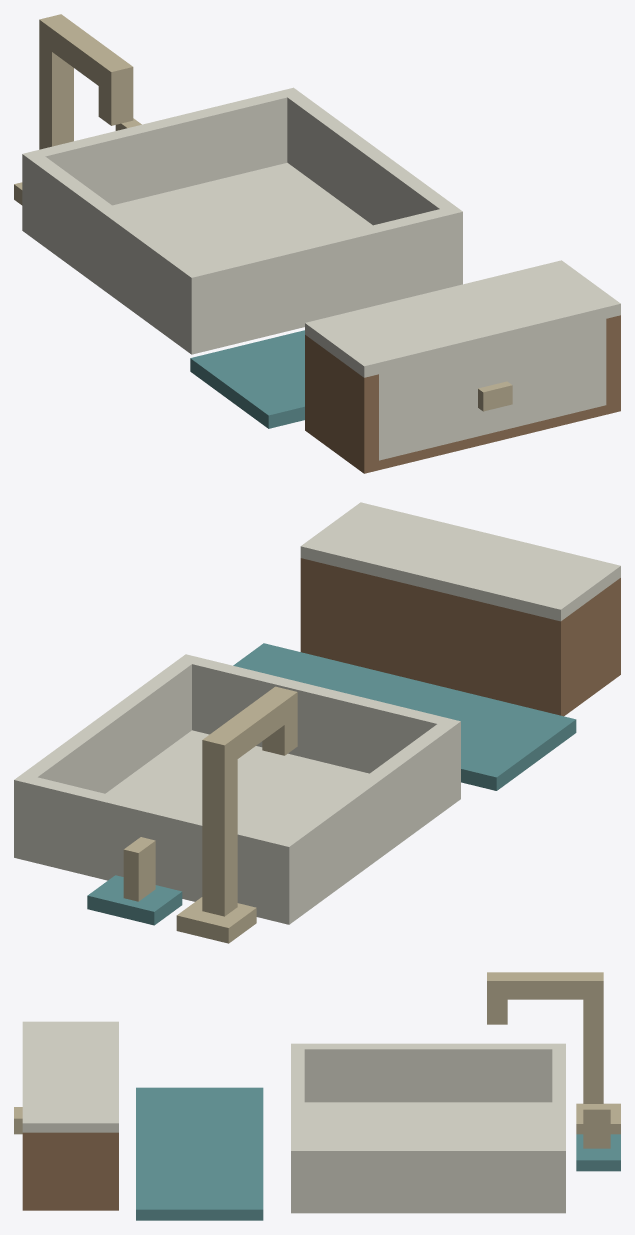
The model's file is CARE_starboard_central_upper_house_r001.glb.
3 views of the same model, one above another, from view 1: azimuth 30°, elevation 25°; view 2: azimuth 150°, elevation 25°; view 3: azimuth 270°, elevation 25° (orthographic). The views are drawn at different scales.
Visible parts, largest first — view 1: G2C_starboard_central_upper_house_WashBottom, G2C_starboard_central_upper_house_ClosedCleanFront, G2C_starboard_central_upper_house_CleanCaseLid, G2C_starboard_central_upper_house_WashFront, G2C_starboard_central_upper_house_WashRear, G2C_starboard_central_upper_house_WashSideA, G2C_starboard_central_upper_house_WashSideB, G2C_starboard_central_upper_house_PreparationTray, G2C_starboard_central_upper_house_CleanCaseLeft, G2C_starboard_central_upper_house_FaucetStem, G2C_starboard_central_upper_house_FaucetArm, G2C_starboard_central_upper_house_CleanCaseBottom (+4 smaller); view 2: G2C_starboard_central_upper_house_CleanCaseRear, G2C_starboard_central_upper_house_CleanCaseLid, G2C_starboard_central_upper_house_WashBottom, G2C_starboard_central_upper_house_WashSideA, G2C_starboard_central_upper_house_WashRear, G2C_starboard_central_upper_house_PreparationTray, G2C_starboard_central_upper_house_WashFront, G2C_starboard_central_upper_house_WashSideB, G2C_starboard_central_upper_house_FaucetStem, G2C_starboard_central_upper_house_CleanCaseLeft, G2C_starboard_central_upper_house_FaucetArm, G2C_starboard_central_upper_house_ValvePlate (+4 smaller); view 3: G2C_starboard_central_upper_house_PreparationTray, G2C_starboard_central_upper_house_WashSideB, G2C_starboard_central_upper_house_WashSideA, G2C_starboard_central_upper_house_WashBottom, G2C_starboard_central_upper_house_CleanCaseLid, G2C_starboard_central_upper_house_CleanCaseRight, G2C_starboard_central_upper_house_FaucetArm, G2C_starboard_central_upper_house_FaucetStem, G2C_starboard_central_upper_house_WashFront, G2C_starboard_central_upper_house_WashRear, G2C_starboard_central_upper_house_ValvePlate, G2C_starboard_central_upper_house_ValveLever (+4 smaller).
Part boxes in pixels (<box>): G2C_starboard_central_upper_house_WashBottom: <box>22,162,462,354</box>; G2C_starboard_central_upper_house_ClosedCleanFront: <box>379,319,606,460</box>; G2C_starboard_central_upper_house_CleanCaseLid: <box>305,260,620,377</box>; G2C_starboard_central_upper_house_WashFront: <box>198,209,448,339</box>; G2C_starboard_central_upper_house_WashRear: <box>37,91,287,205</box>; G2C_starboard_central_upper_house_WashSideA: <box>22,150,206,342</box>; G2C_starboard_central_upper_house_WashSideB: <box>279,87,462,280</box>; G2C_starboard_central_upper_house_PreparationTray: <box>190,330,304,428</box>; G2C_starboard_central_upper_house_CleanCaseLeft: <box>313,341,378,464</box>; G2C_starboard_central_upper_house_FaucetStem: <box>39,14,73,149</box>; G2C_starboard_central_upper_house_FaucetArm: <box>39,14,133,95</box>; G2C_starboard_central_upper_house_CleanCaseBottom: <box>305,401,620,473</box>; G2C_starboard_central_upper_house_CleanCaseRear: <box>300,558,569,708</box>; G2C_starboard_central_upper_house_CleanCaseLid: <box>300,502,620,621</box>; G2C_starboard_central_upper_house_WashBottom: <box>14,730,460,924</box>; G2C_starboard_central_upper_house_WashSideA: <box>274,717,460,912</box>; G2C_starboard_central_upper_house_WashRear: <box>29,777,282,909</box>; G2C_starboard_central_upper_house_PreparationTray: <box>233,643,576,790</box>; G2C_starboard_central_upper_house_WashFront: <box>192,658,445,773</box>; G2C_starboard_central_upper_house_WashSideB: <box>14,654,200,849</box>; G2C_starboard_central_upper_house_FaucetStem: <box>202,730,237,916</box>; G2C_starboard_central_upper_house_CleanCaseLeft: <box>569,578,620,702</box>; G2C_starboard_central_upper_house_FaucetArm: <box>202,686,297,768</box>; G2C_starboard_central_upper_house_ValvePlate: <box>87,875,182,925</box>; G2C_starboard_central_upper_house_PreparationTray: <box>136,1087,263,1220</box>; G2C_starboard_central_upper_house_WashSideB: <box>291,1145,565,1203</box>; G2C_starboard_central_upper_house_WashSideA: <box>291,1043,565,1102</box>; G2C_starboard_central_upper_house_WashBottom: <box>291,1102,565,1213</box>; G2C_starboard_central_upper_house_CleanCaseLid: <box>22,1021,118,1132</box>; G2C_starboard_central_upper_house_CleanCaseRight: <box>22,1132,104,1202</box>; G2C_starboard_central_upper_house_FaucetArm: <box>487,972,603,999</box>; G2C_starboard_central_upper_house_FaucetStem: <box>583,972,603,1103</box>; G2C_starboard_central_upper_house_WashFront: <box>291,1049,304,1145</box>; G2C_starboard_central_upper_house_WashRear: <box>552,1049,565,1145</box>; G2C_starboard_central_upper_house_ValvePlate: <box>576,1134,620,1171</box>; G2C_starboard_central_upper_house_ValveLever: <box>583,1104,610,1148</box>.
Size of the model in its own units: 0.84 by 0.48 by 1.76.
